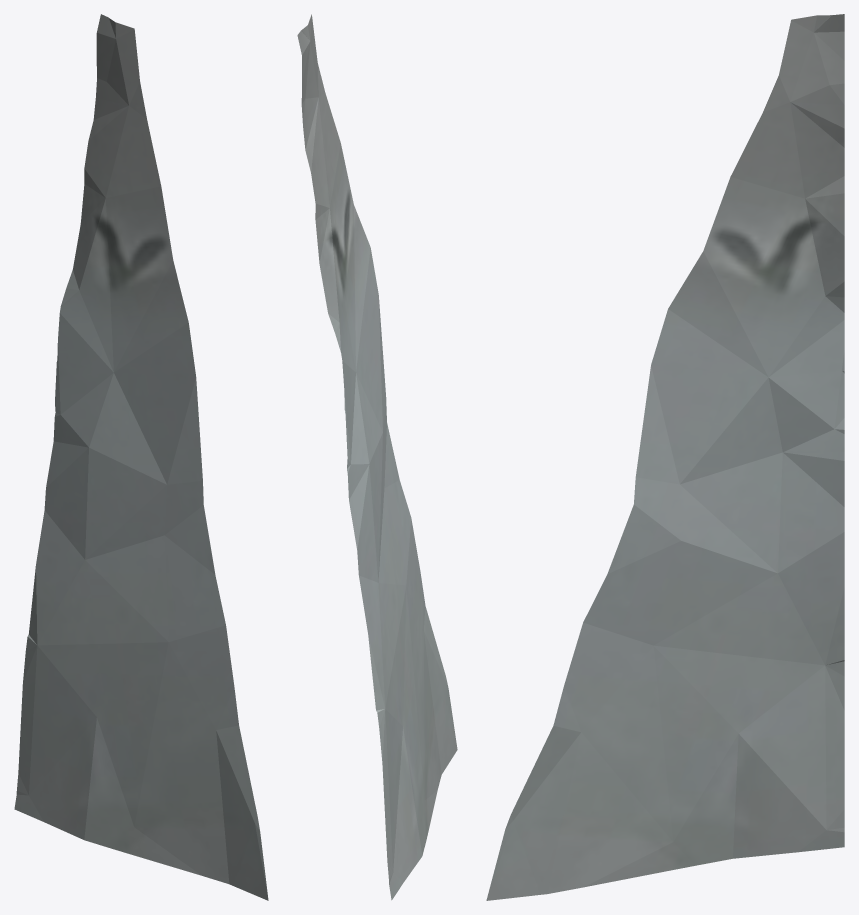
3 renders of one model, left to right at view 1: azimuth 30°, elevation 25°; view 2: azimuth 150°, elevation 25°; view 3: azimuth 270°, elevation 25°, orthographic. The views are drawn at different scales.
Bounding box in the file's own units: 0.2191 × 1.67 × 0.6169.
Materials: 1 (1 with a texture image).
